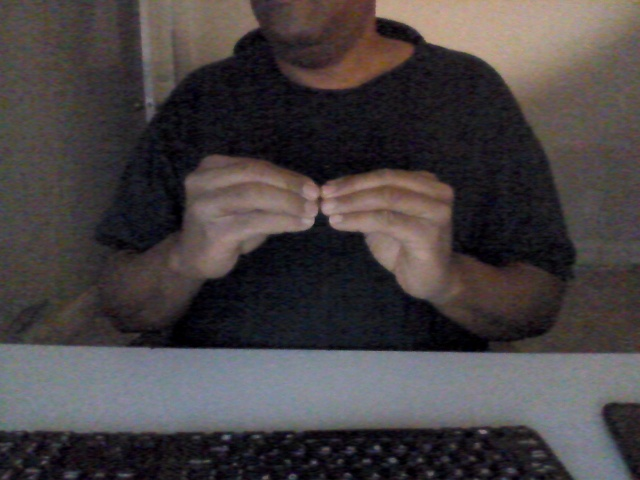more: (177, 154, 457, 303)
